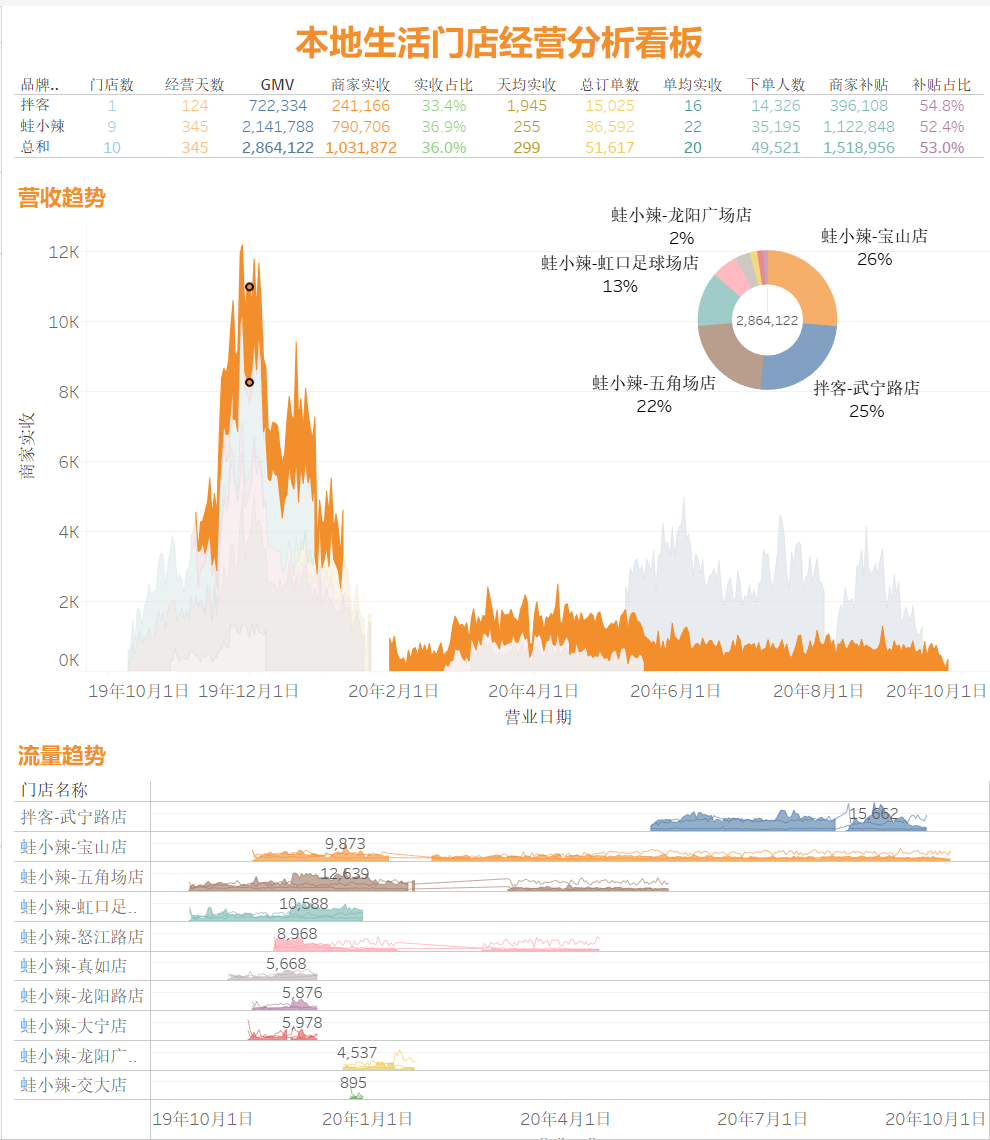

What the dashboard file says about the page in this screenshot:
{"tool":"tableau","page":{"name":"经营分析看板","canvas":[1000,1169],"ordinal":0},"visuals":[{"type":"worksheet","title":"经营总览-部分指标","mark":"Automatic","rows":["品牌名称"],"box":[8,8,984,164]},{"type":"worksheet","title":"营收占比","mark":"Pie","rows":["Calculation_2363545445517930512","Calculation_2363545445520777236"],"box":[532,107,467,422]},{"type":"worksheet","title":"营收趋势","mark":"Area","rows":["商家实收"],"cols":["日期 (天)"],"box":[8,172,984,558]},{"type":"worksheet","title":"流量趋势 ","mark":"Automatic","rows":["门店名称","曝光人数"],"cols":["日期 (天)"],"box":[8,730,984,431]}]}

Visuals, with their boxes in screenshot pixels (x1, y1, x2, y2), scaled from the page's 1000x1169 canvas onto the 990x1140 screenshot:
"经营总览-部分指标" worksheet: locate(8, 8, 982, 168)
"营收占比" worksheet (Pie marks): locate(527, 104, 989, 516)
"营收趋势" worksheet (Area marks): locate(8, 168, 982, 712)
"流量趋势 " worksheet: locate(8, 712, 982, 1132)
